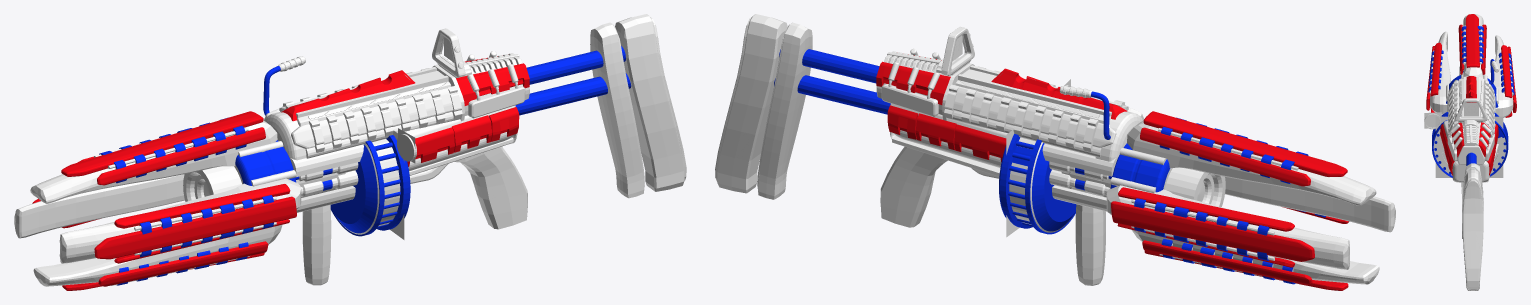
Rendered from KulSpruta.fbx.
The picture shows the model from 3 angles, left to right: view 1: azimuth 30°, elevation 25°; view 2: azimuth 150°, elevation 25°; view 3: azimuth 270°, elevation 25°; orthographic projection. The views are drawn at different scales.
Parts seen in each view (by area): view 1: aim; view 2: aim; view 3: aim.
Part boxes in pixels (left/top/right/bottom): aim: left=14, top=14, right=686, bottom=290; aim: left=715, top=14, right=1395, bottom=290; aim: left=1424, top=14, right=1516, bottom=290.
Size of the model in its own units: 297 by 95.87 by 61.78.
Materials: 4 (1 with a texture image).
